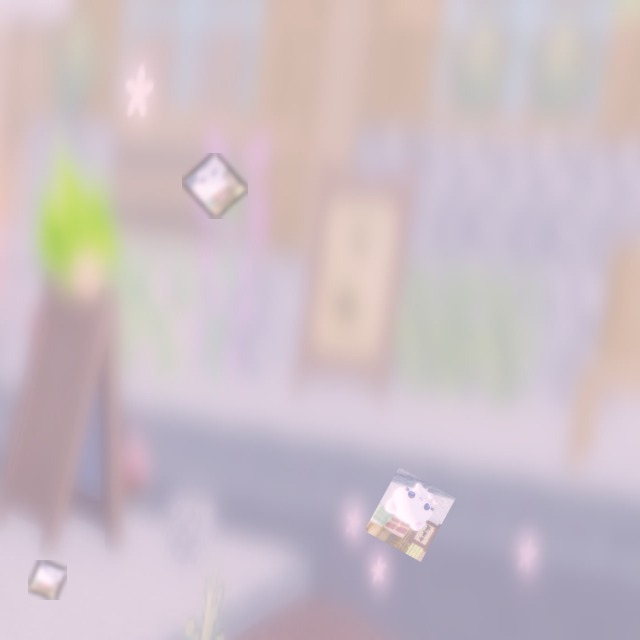urso_branco: (364, 467, 456, 562), (182, 153, 248, 219), (28, 560, 67, 600)
